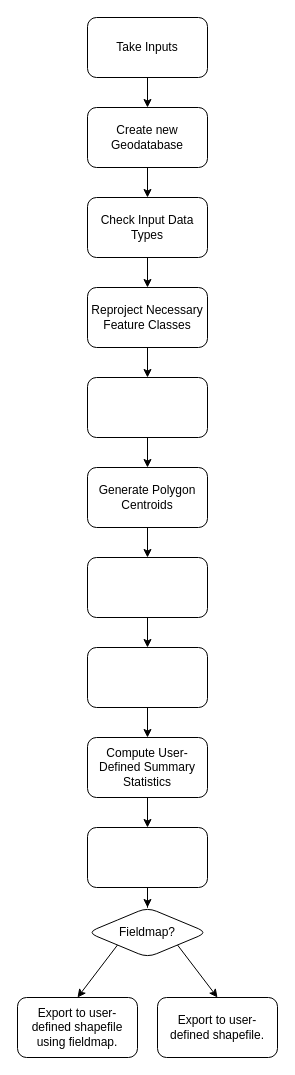
Image size: 295x1075. Some labels were removed from this diagram. The centre of each missing label's shape, as x and y in pixels:
"Calculate Intersections as Evac Route Access Points" belongs at point (147, 587).
"Clip Feature Classes" belongs at point (147, 407).
"Join summary statistics feature class with near analysis feature class" belongs at point (147, 857).
"Perform Near Analysis between Centroids and Intersections" belongs at point (147, 677).
